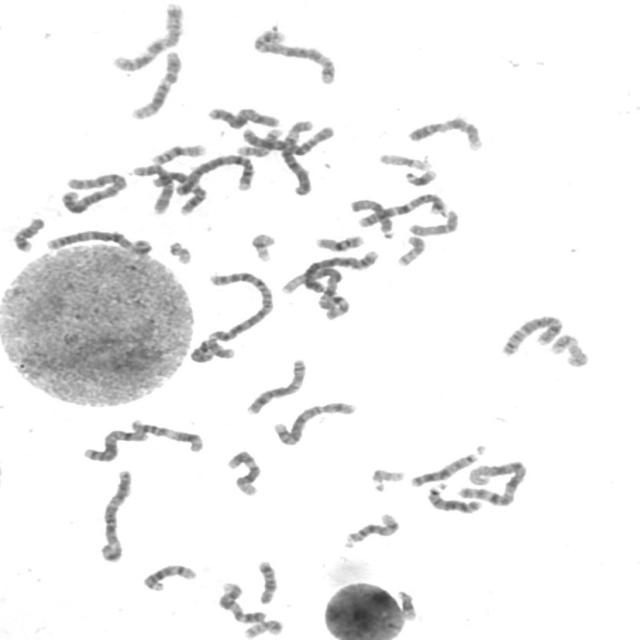A1: (278, 261, 354, 322), (458, 456, 531, 508)
A2: (204, 267, 276, 345), (58, 168, 130, 216)
A3: (96, 466, 136, 564), (43, 226, 155, 258)
B4: (287, 247, 382, 295), (171, 150, 257, 197)
B5: (250, 25, 340, 86), (270, 398, 360, 447)
C10: (128, 160, 176, 216), (185, 335, 243, 365)
C11: (126, 416, 207, 454), (150, 172, 204, 215)
C12: (128, 47, 184, 121), (224, 447, 263, 497)
C6: (236, 121, 338, 157), (278, 118, 316, 196)
C7: (108, 0, 186, 73), (354, 190, 449, 229)
C8: (242, 355, 308, 416), (501, 312, 567, 356)
C9: (404, 113, 486, 152), (215, 578, 269, 624)
D13: (408, 443, 488, 489), (425, 480, 486, 516)
D14: (340, 508, 402, 550), (139, 560, 200, 594)
D15: (347, 195, 398, 240), (405, 205, 463, 238)
E16: (148, 140, 208, 166), (312, 230, 368, 252)
E17: (547, 330, 592, 369), (235, 124, 285, 158)
E18: (10, 214, 48, 252), (253, 557, 280, 605)
F19: (376, 150, 434, 172), (247, 230, 278, 264)
F20: (394, 232, 428, 268), (241, 615, 286, 639)
G21: (394, 586, 421, 622), (402, 165, 440, 188)
G22: (368, 465, 408, 492), (165, 238, 195, 265)
X: (80, 426, 150, 463), (204, 102, 284, 130)
